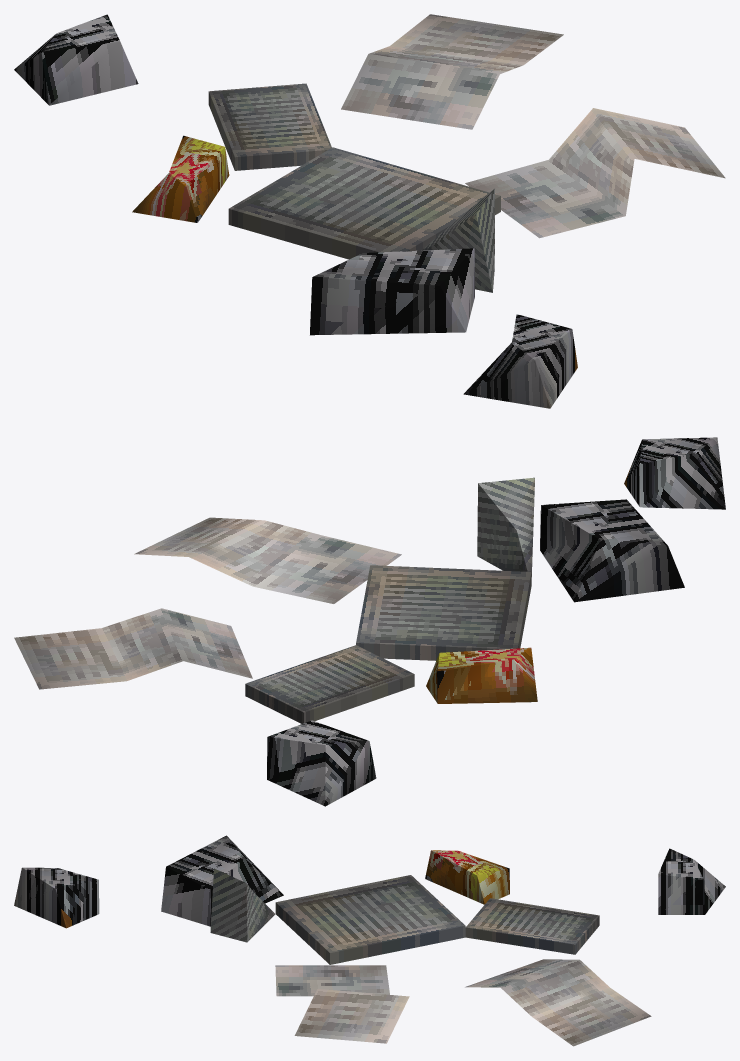
The model's file is M2_Garbage02.glb.
3 renders of one model, top to bottom at view 1: azimuth 30°, elevation 25°; view 2: azimuth 150°, elevation 25°; view 3: azimuth 270°, elevation 25°, orthographic. The views are drawn at different scales.
Visible parts, largest first — view 1: M2_GARBAGE02; view 2: M2_GARBAGE02; view 3: M2_GARBAGE02.
Part boxes in pixels (left/top/right/bottom): M2_GARBAGE02: left=14, top=14, right=725, bottom=408; M2_GARBAGE02: left=14, top=437, right=725, bottom=806; M2_GARBAGE02: left=14, top=835, right=725, bottom=1046.
Bounding box in the file's own units: 1.58 × 0.242 × 2.61.
Materials: 1 (1 with a texture image).
